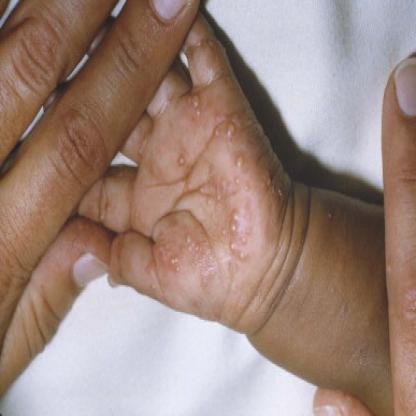Fire ant: (147, 226, 217, 296), (223, 146, 254, 300), (188, 90, 260, 140), (175, 153, 223, 211), (80, 190, 118, 232), (261, 172, 295, 218), (196, 26, 226, 68), (326, 205, 338, 227), (132, 202, 142, 227), (116, 162, 128, 180)
